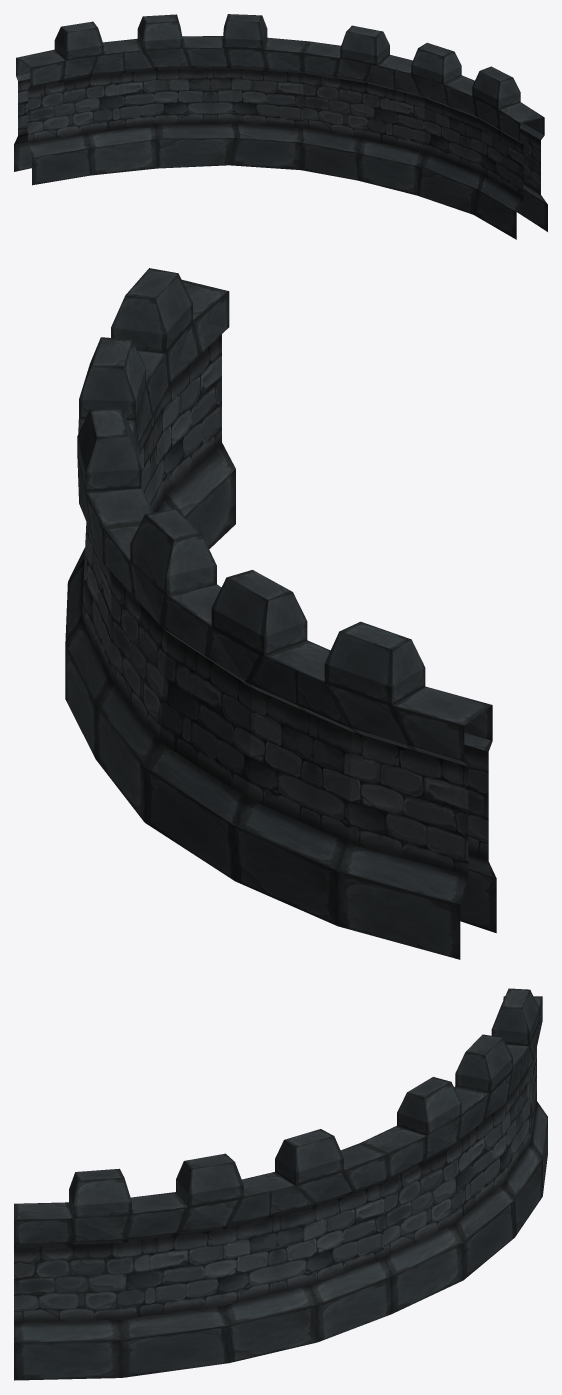
Rendered from cp_wall5.FBX.
3 renders of one model, top to bottom at view 1: azimuth 30°, elevation 25°; view 2: azimuth 150°, elevation 25°; view 3: azimuth 270°, elevation 25°, orthographic. The views are drawn at different scales.
Visible parts, largest first — view 1: wall5; view 2: wall5; view 3: wall5.
Part boxes in pixels (bbox=[...]): wall5: bbox=[14, 14, 547, 239]; wall5: bbox=[65, 268, 496, 959]; wall5: bbox=[14, 988, 547, 1380].
Bounding box in the file's own units: 97.73 × 38.66 × 97.55.
